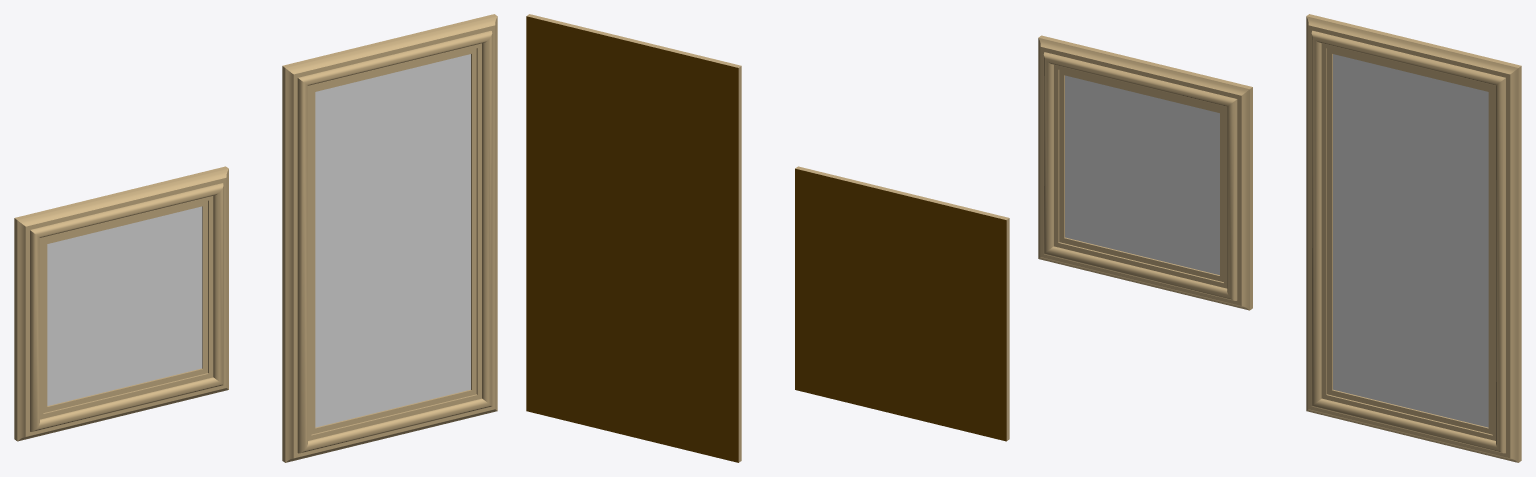
File: Picture Frame.fbx
3 renders of one model, left to right at view 1: azimuth 30°, elevation 25°; view 2: azimuth 150°, elevation 25°; view 3: azimuth 330°, elevation 25°, orthographic.
Visible parts, largest first — view 1: pCube9, pCube8; view 2: pCube9, pCube8; view 3: pCube9, pCube8.
Boxes of the visible parts, <box> form: pCube9: <box>282,14,497,462</box>; pCube8: <box>14,166,228,441</box>; pCube9: <box>526,14,741,462</box>; pCube8: <box>795,166,1009,441</box>; pCube9: <box>1306,14,1521,462</box>; pCube8: <box>1038,35,1252,310</box>.
Bounding box in the file's own units: 90.82 × 71.38 × 2.99.
